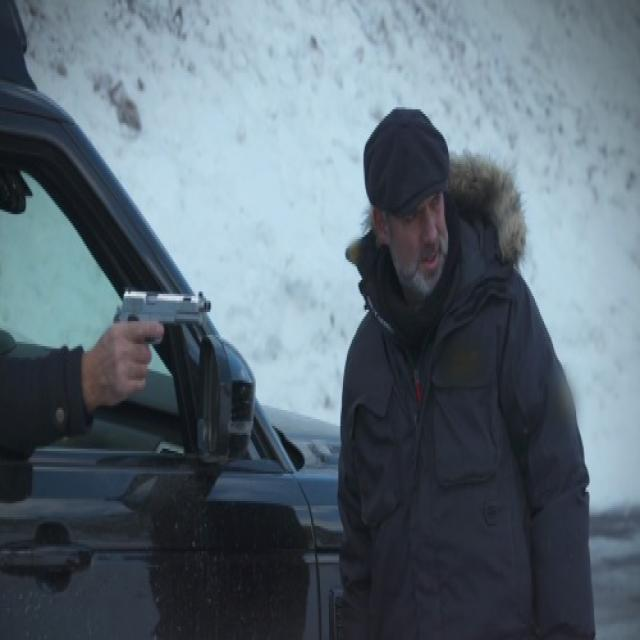weapons: (92, 263, 220, 421)
